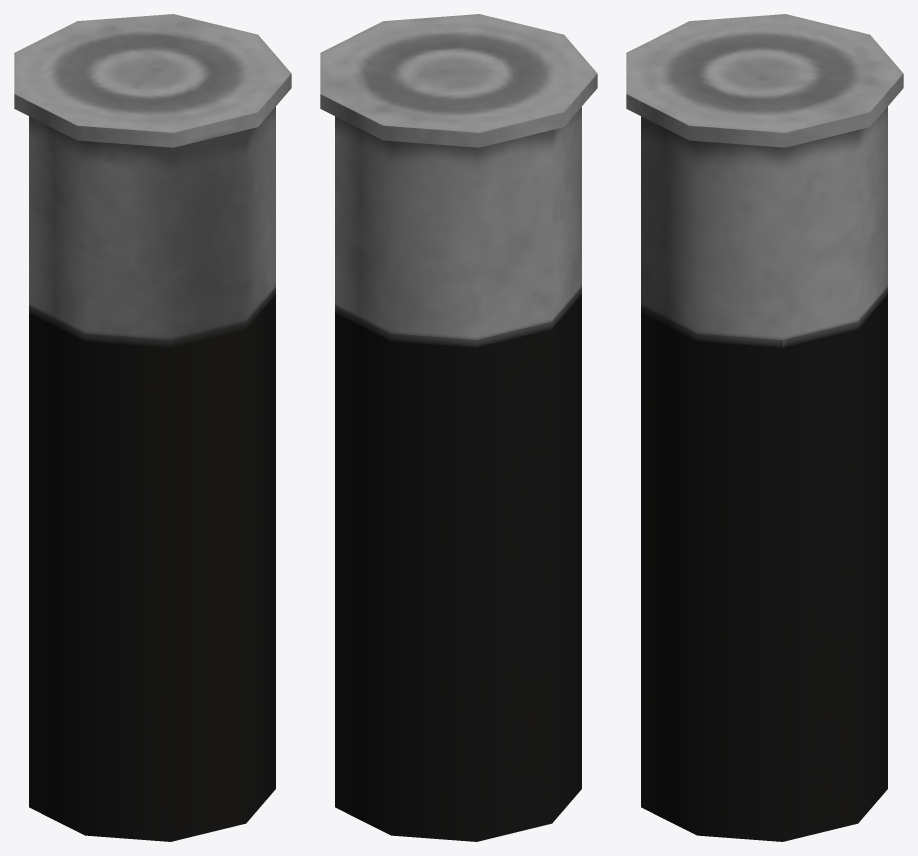
Rendered from shotgun_shell.fbx.
3 views of the same model, side by side, from view 1: azimuth 30°, elevation 25°; view 2: azimuth 150°, elevation 25°; view 3: azimuth 270°, elevation 25° (orthographic).
Visible parts, largest first — view 1: holderlow.003; view 2: holderlow.003; view 3: holderlow.003.
Boxes of the visible parts, x1,y1,x2,y2 form: holderlow.003: [14, 14, 291, 841]; holderlow.003: [320, 14, 597, 841]; holderlow.003: [626, 14, 903, 841].
Bounding box in the file's own units: 15.22 × 42.7 × 14.98.
Materials: 1 (1 with a texture image).
